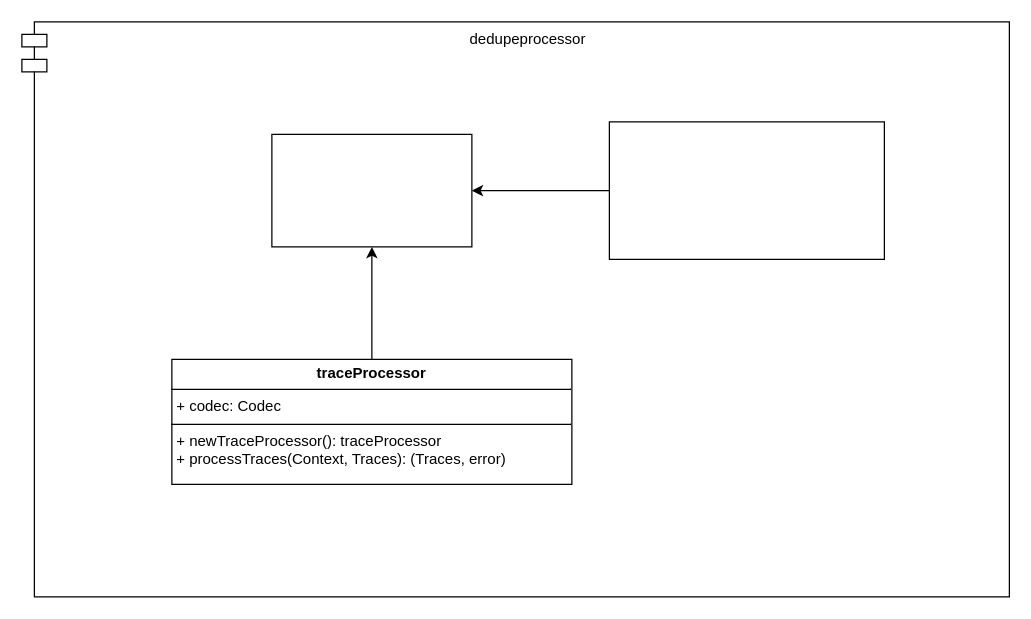
Some shapes in this 1031 by 619 pixel diagram are drawn without their labels. The shapes that lost their labels are listed below. From the top down, each one's centre as x and y in pixels, then its label:
At point (371, 190): "Config + TableType + Validate(): error".
At point (746, 190): "Factory + field: Type + createDefaultConfig(): Config + NewFactory(): Factory".
